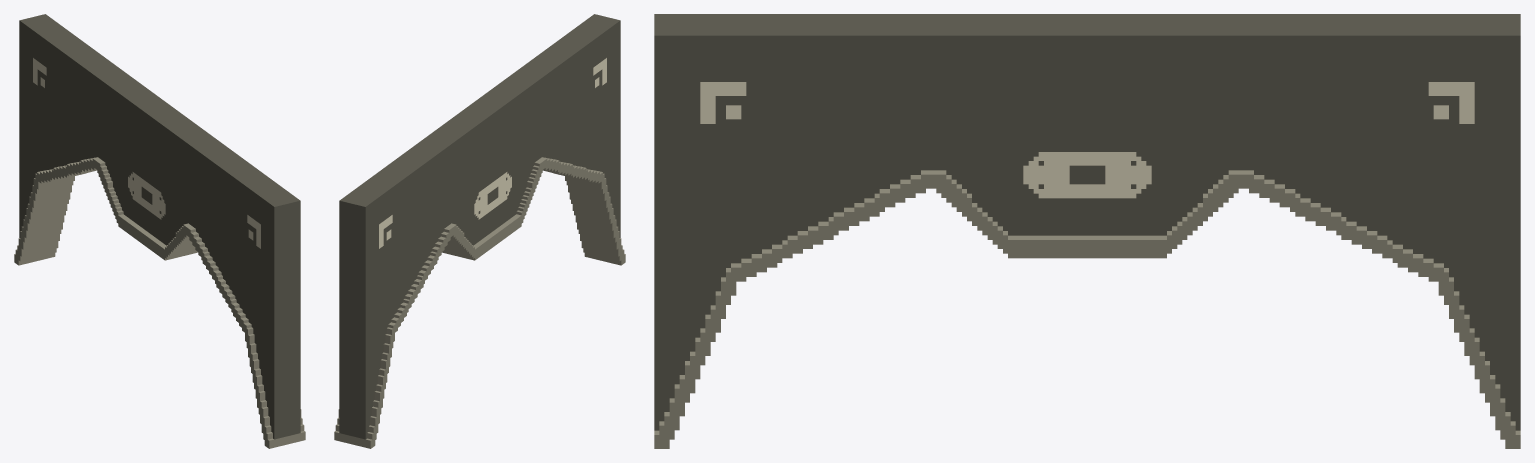
Rendered from factory4.1-32-factory4.2-1.obj.
3 views of the same model, side by side, from view 1: azimuth 30°, elevation 25°; view 2: azimuth 150°, elevation 25°; view 3: azimuth 270°, elevation 25° (orthographic). The views are drawn at different scales.
Parts seen in each view (by area): view 1: factory4; view 2: factory4; view 3: factory4.
Boxes of the visible parts, x1,y1,x2,y2 form: factory4: (14, 14, 305, 448); factory4: (334, 14, 625, 448); factory4: (654, 14, 1520, 448).
Bounding box in the file's own units: 1.4 × 8.8 × 16.9.
Materials: 1 (1 with a texture image).
